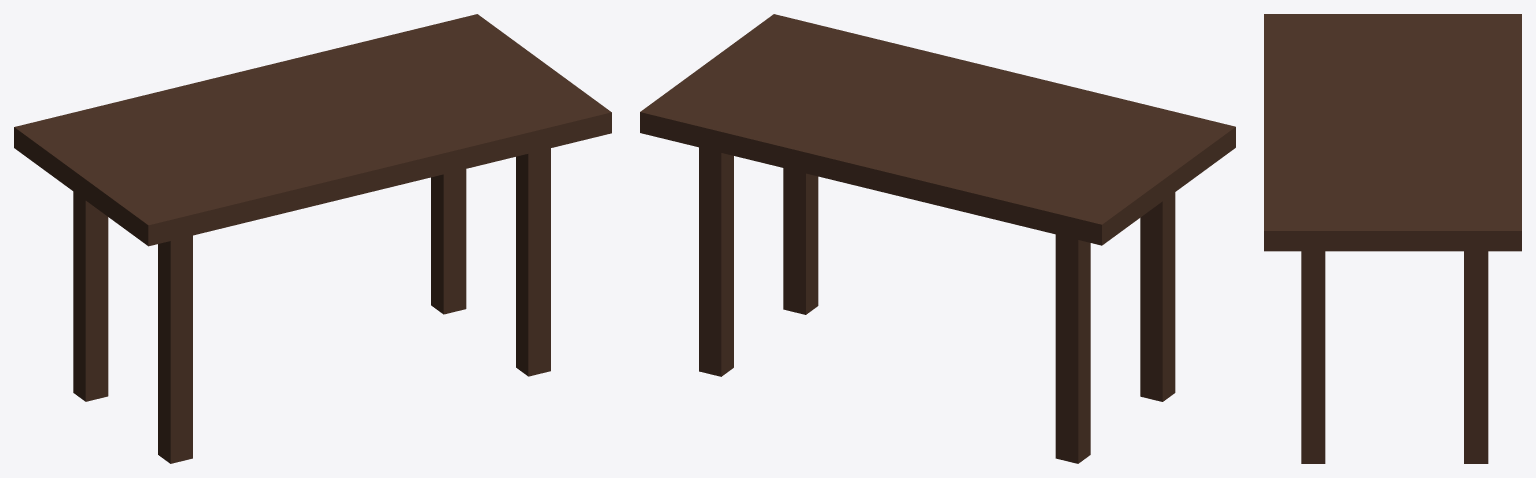
File: table.fbx
3 views of the same model, side by side, from view 1: azimuth 30°, elevation 25°; view 2: azimuth 150°, elevation 25°; view 3: azimuth 270°, elevation 25° (orthographic). The views are drawn at different scales.
Visible parts, largest first — view 1: Cube.001; view 2: Cube.001; view 3: Cube.001.
Boxes of the visible parts, x1,y1,x2,y2 form: Cube.001: (14,14,611,463); Cube.001: (640,14,1235,463); Cube.001: (1264,14,1521,463).
Bounding box in the file's own units: 398 × 216 × 200.
